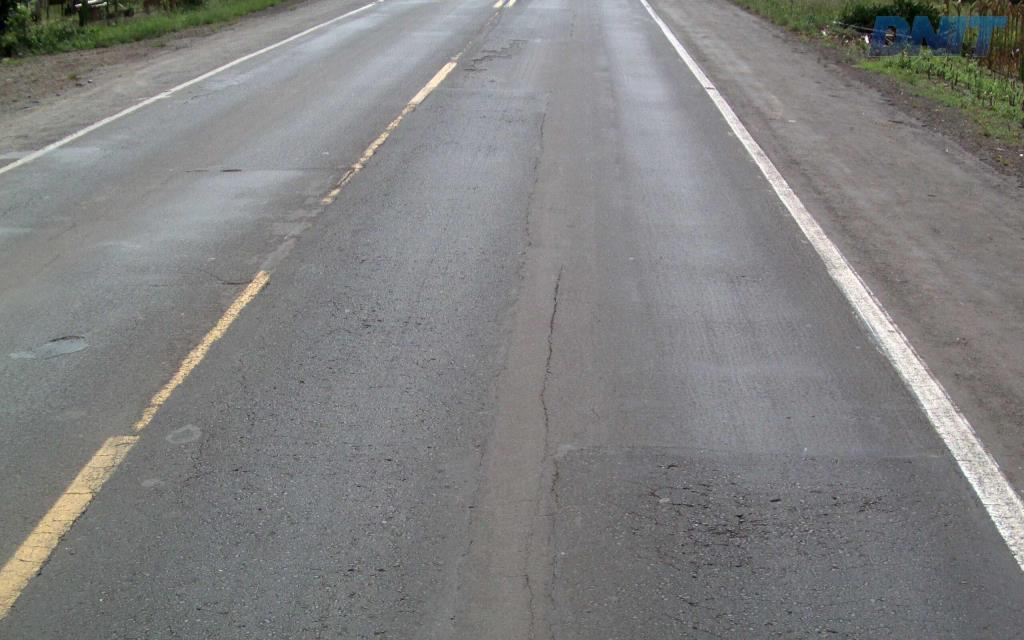crack: (683, 511, 768, 549)
pothole: (463, 35, 528, 74)
